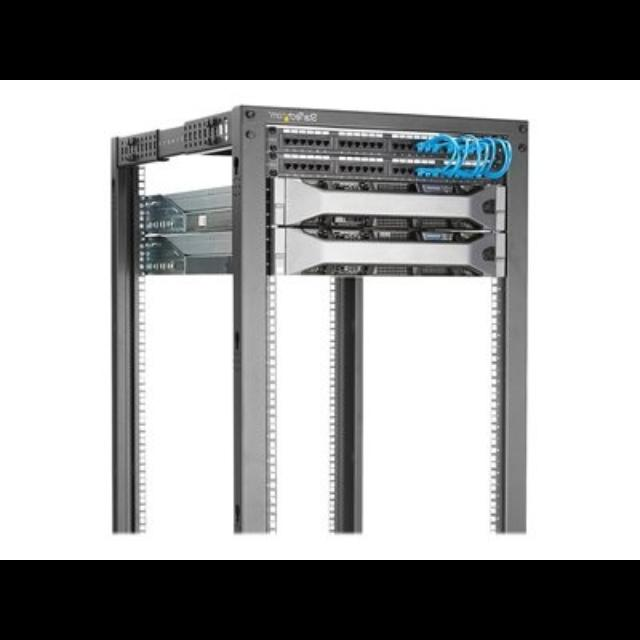Server: (103, 98, 533, 560)
